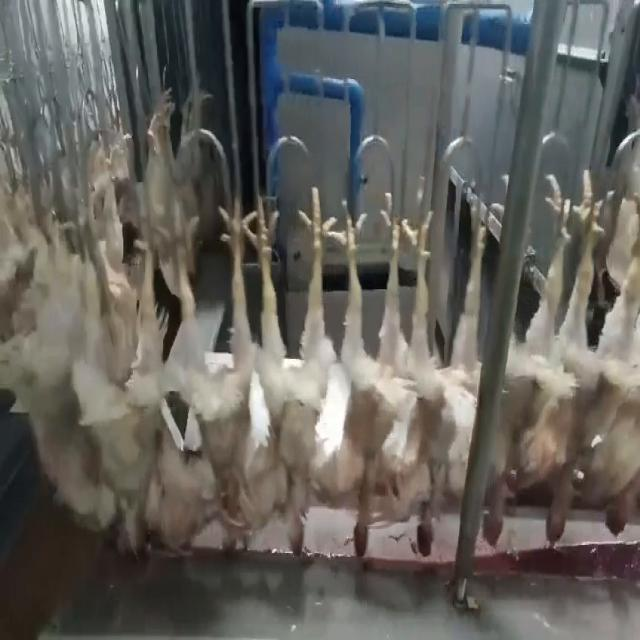chicken: (388, 195, 495, 560), (506, 169, 599, 542), (167, 179, 258, 550), (321, 191, 405, 564), (244, 183, 324, 561), (579, 183, 639, 536)
